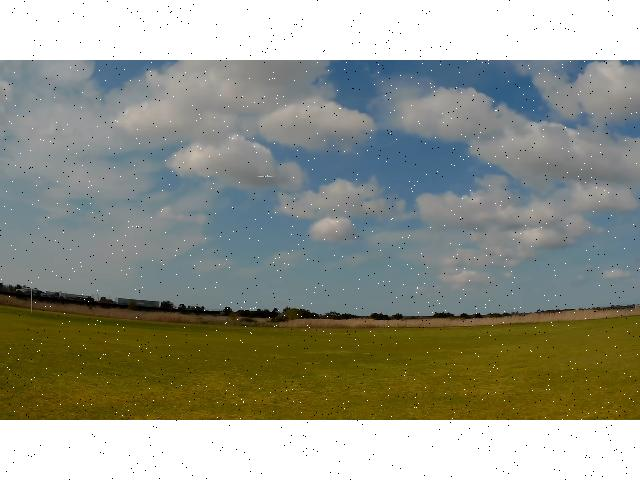Anti-Drone: (258, 175, 272, 177)
